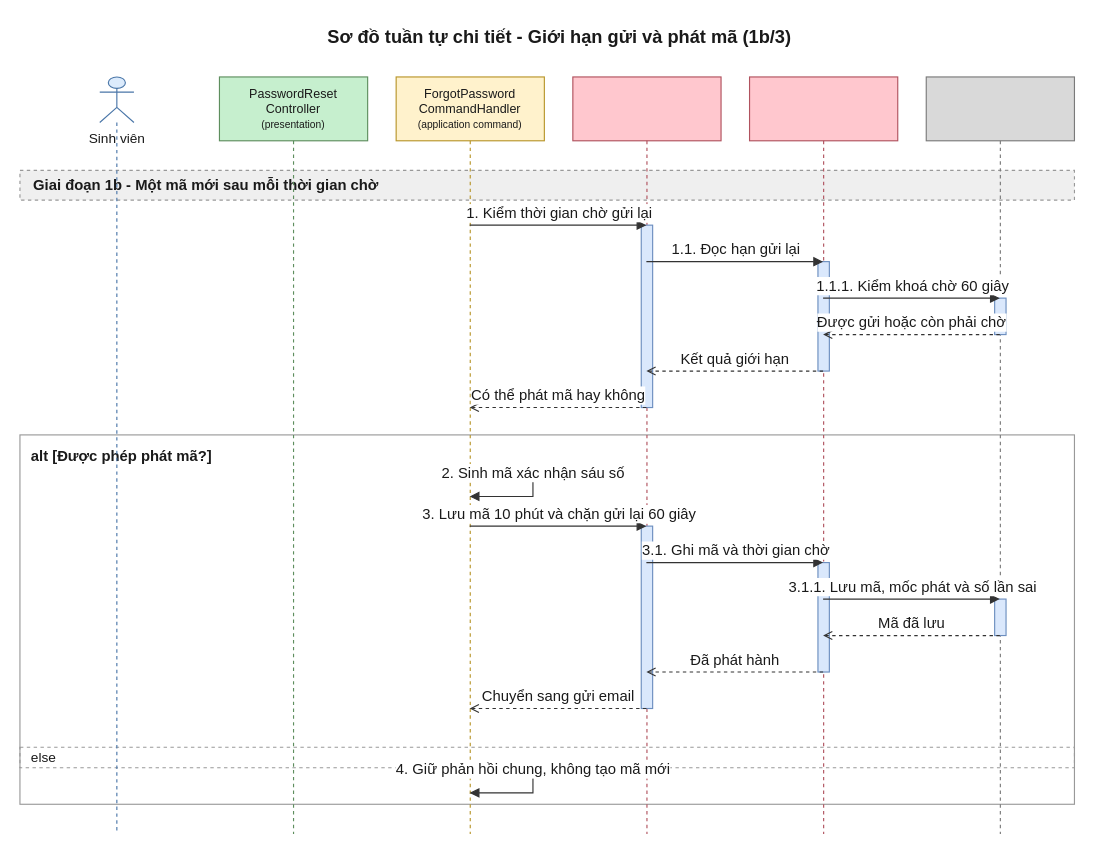
Some shapes in this 1094 by 854 pixel diagram are drawn without their labels. Each missing label, with the box of its shape:
Redis (OTP quên mật khẩu): (925, 76, 1074, 834)
RedisOtpAdapter (infrastructure): (748, 76, 898, 834)
ResetOtpPort (output port): (572, 76, 721, 834)
